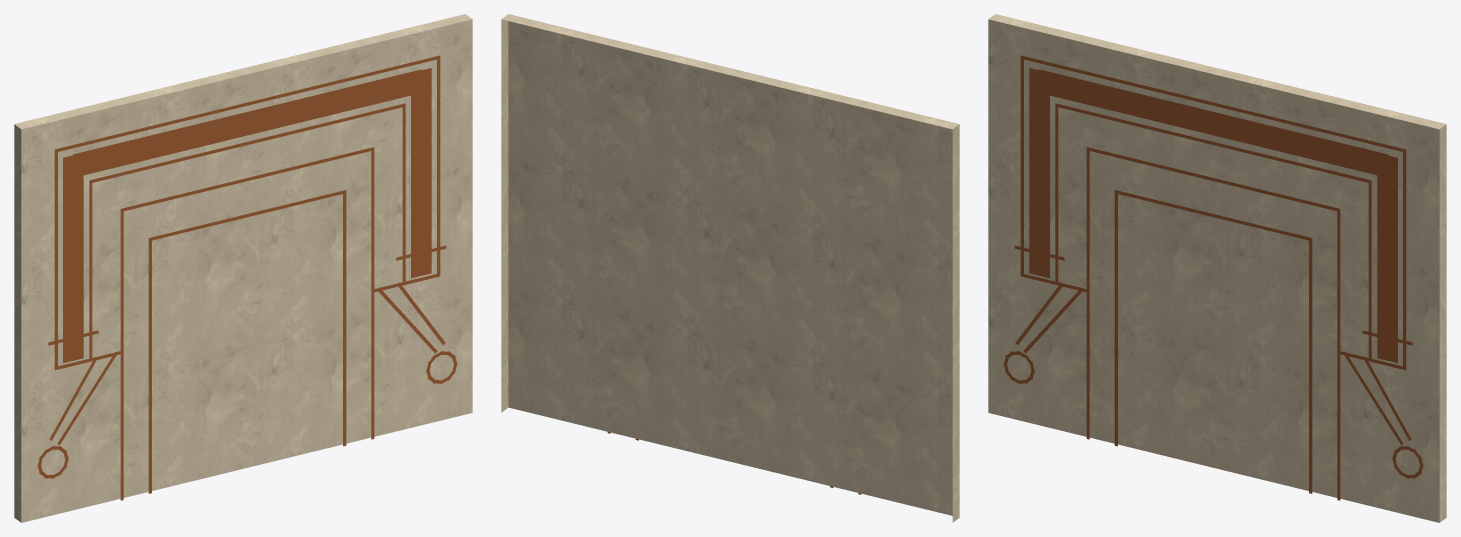
File: stepped_surround.glb
3 views of the same model, side by side, from view 1: azimuth 30°, elevation 25°; view 2: azimuth 150°, elevation 25°; view 3: azimuth 330°, elevation 25° (orthographic).
Visible parts, largest first — view 1: stepped_surround; view 2: stepped_surround; view 3: stepped_surround.
Boxes of the visible parts, x1=… form: stepped_surround: x1=14, y1=14, x2=472, y2=522; stepped_surround: x1=501, y1=14, x2=959, y2=522; stepped_surround: x1=988, y1=14, x2=1446, y2=522.
Bounding box in the file's own units: 7.2 × 6.03 × 0.21.
2 materials, 1 textured.
